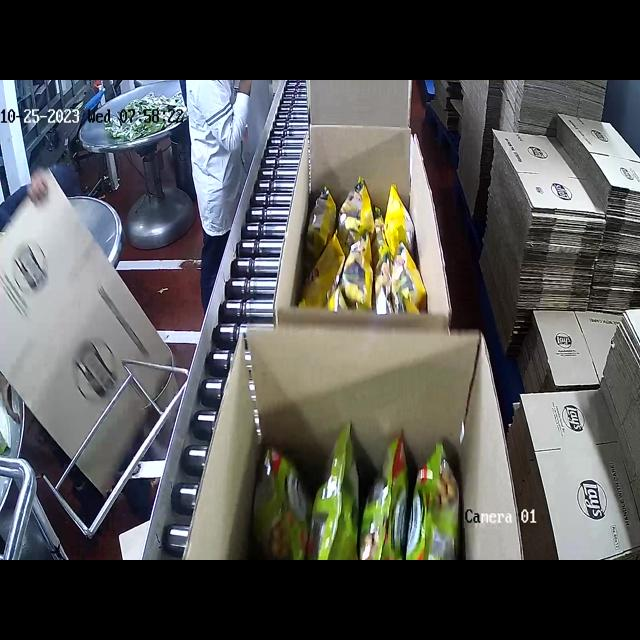salted: (297, 175, 428, 315)
yogurt: (250, 432, 469, 560)
